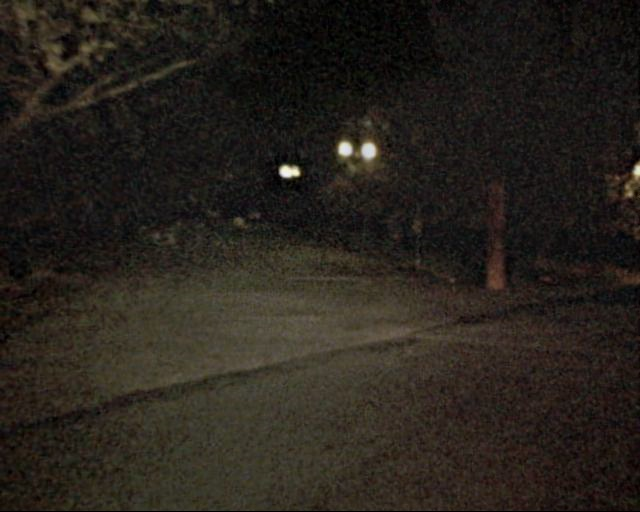person: (233, 212, 252, 258)
